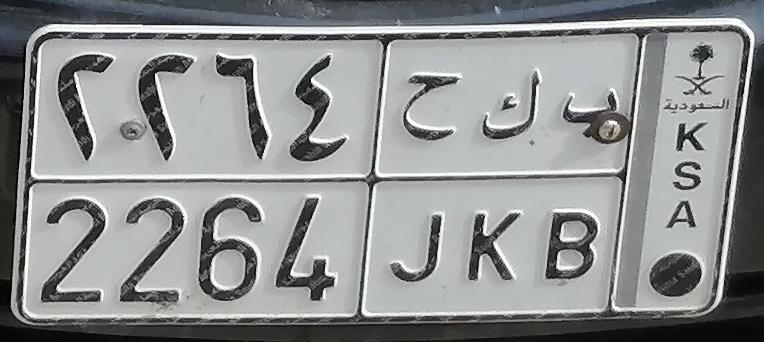2: (39, 51, 119, 305), (122, 47, 198, 308)
4: (274, 49, 355, 303)
6: (198, 47, 268, 305)
B: (544, 87, 623, 282)
J: (388, 68, 463, 283)
K: (469, 67, 547, 282)
